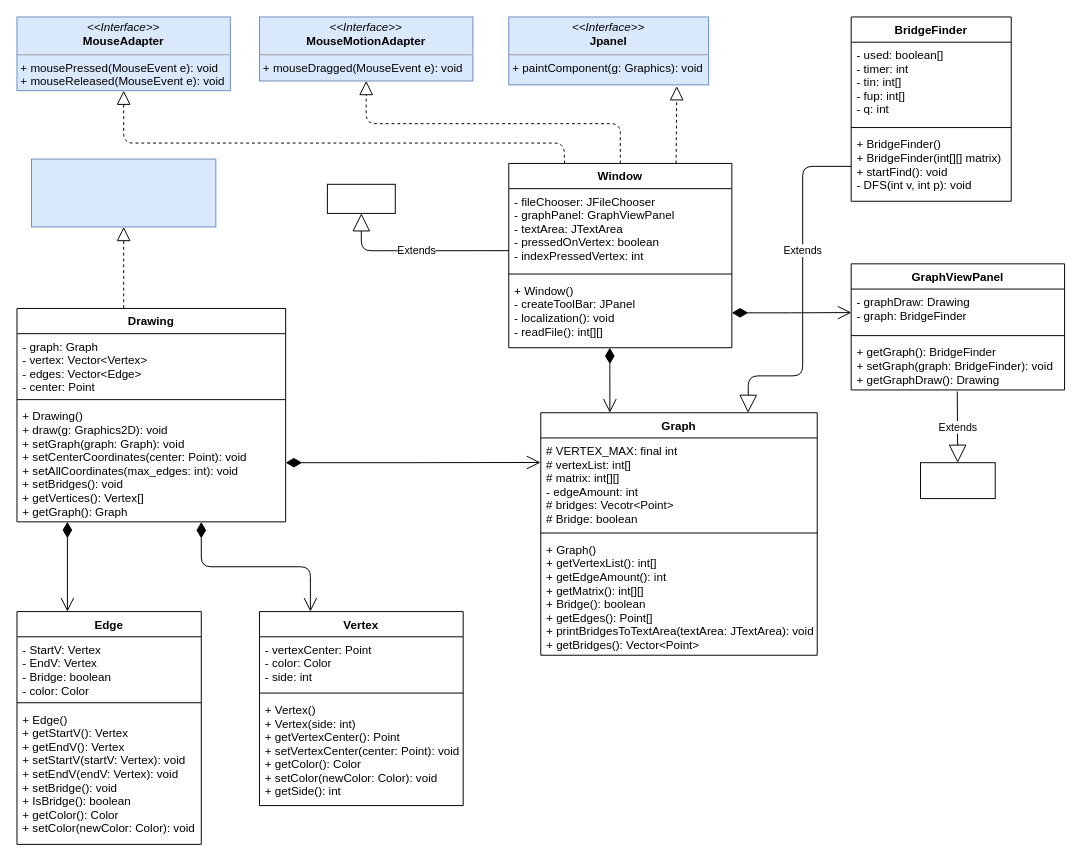
The diagram is 1082 pixels wide and 864 high, and some of its shapes have lost their labels. Each missing label, with the centre of its shape:
"<<Interface>> Drawable + draw(g: Graphics2D): void" goes at point (123, 192).
"JFrame" goes at point (360, 198).
"JPanel" goes at point (957, 480).
